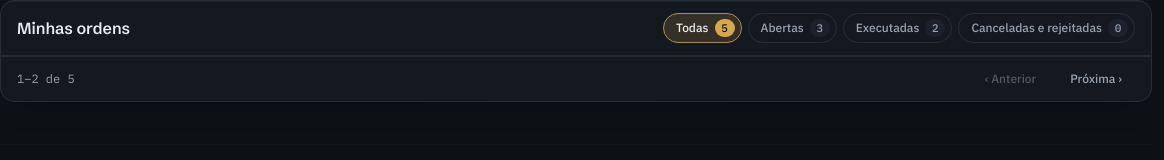
it: Orders table pagination › Should show only the rows that fit and page through the rest
The width and height of the screenshot is (1164, 160).
Expected: the button with aria-label "Página anterior" is disabled, [972, 63, 1049, 95]
What coordinates should you click on to do the following:
click the button with aria-label "Próxima página"
I would click on:
 (1096, 79)
Its box is [1057, 63, 1135, 95].
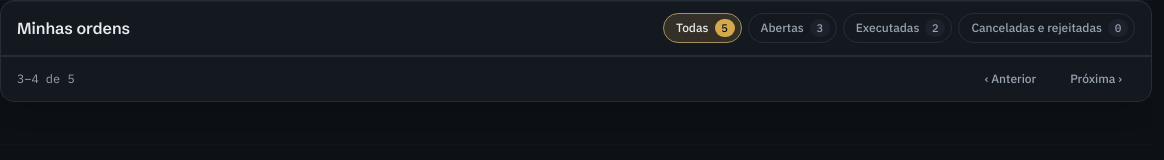
Now the text with class "orders-range" reads "3–4 de 5", box [17, 71, 75, 86]
What coordinates should you click on to do the following:
click the button with aria-label "Próxima página"
I would click on:
 (1096, 79)
Its box is [1057, 63, 1135, 95].
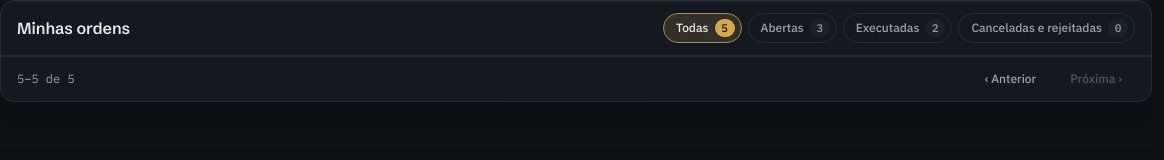
Now the text with class "orders-range" reads "5–5 de 5", box [17, 71, 75, 86]
Now the button with aria-label "Próxima página" is disabled, box [1057, 63, 1135, 95]
What coordinates should you click on to do the following:
click the button with aria-label "Página anterior"
I would click on:
 (1010, 79)
Its box is [972, 63, 1049, 95].
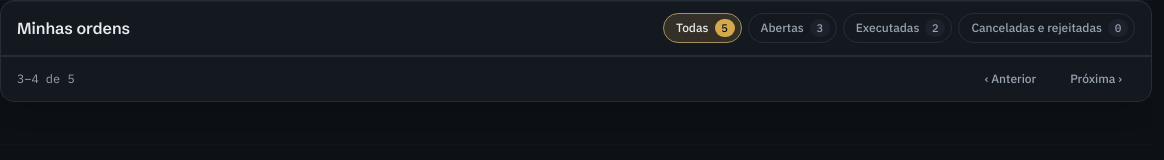
Now the text with class "orders-range" reads "3–4 de 5", box [17, 71, 75, 86]
